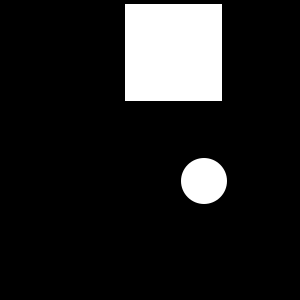circle: (125, 4, 222, 101), (162, 7, 220, 65)
rectangle: (181, 158, 227, 204)
